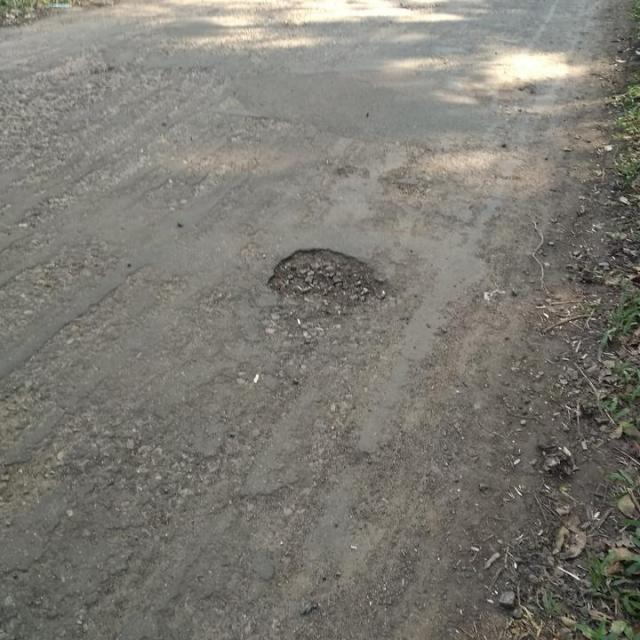pothole: (265, 244, 398, 314)
